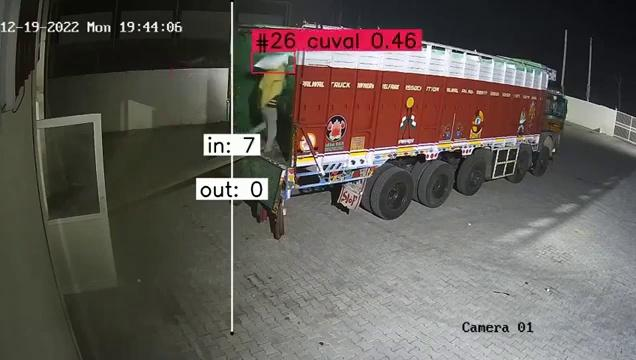karung: (254, 53, 293, 72)
